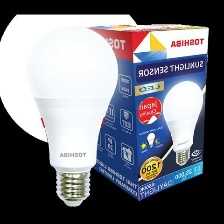book: (78, 19, 212, 204)
light_bulb: (24, 23, 118, 210)
